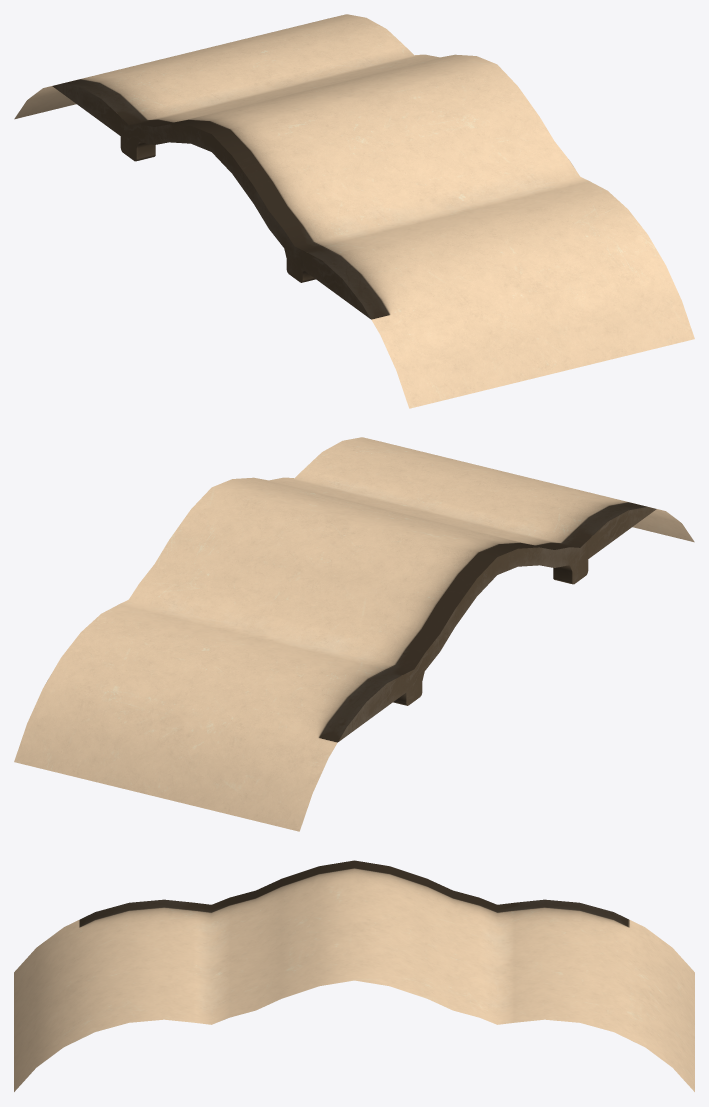
File: CeilingUnity.fbx
The picture shows the model from 3 angles, top to bottom: view 1: azimuth 30°, elevation 25°; view 2: azimuth 150°, elevation 25°; view 3: azimuth 270°, elevation 25°; orthographic projection. The views are drawn at different scales.
Visible parts, largest first — view 1: Куб.004; view 2: Куб.004; view 3: Куб.004.
Part boxes in pixels (bbox=[...]): Куб.004: bbox=[14, 14, 694, 408]; Куб.004: bbox=[14, 437, 694, 831]; Куб.004: bbox=[14, 860, 694, 1091].
Bounding box in the file's own units: 146 × 63.44 × 350.
